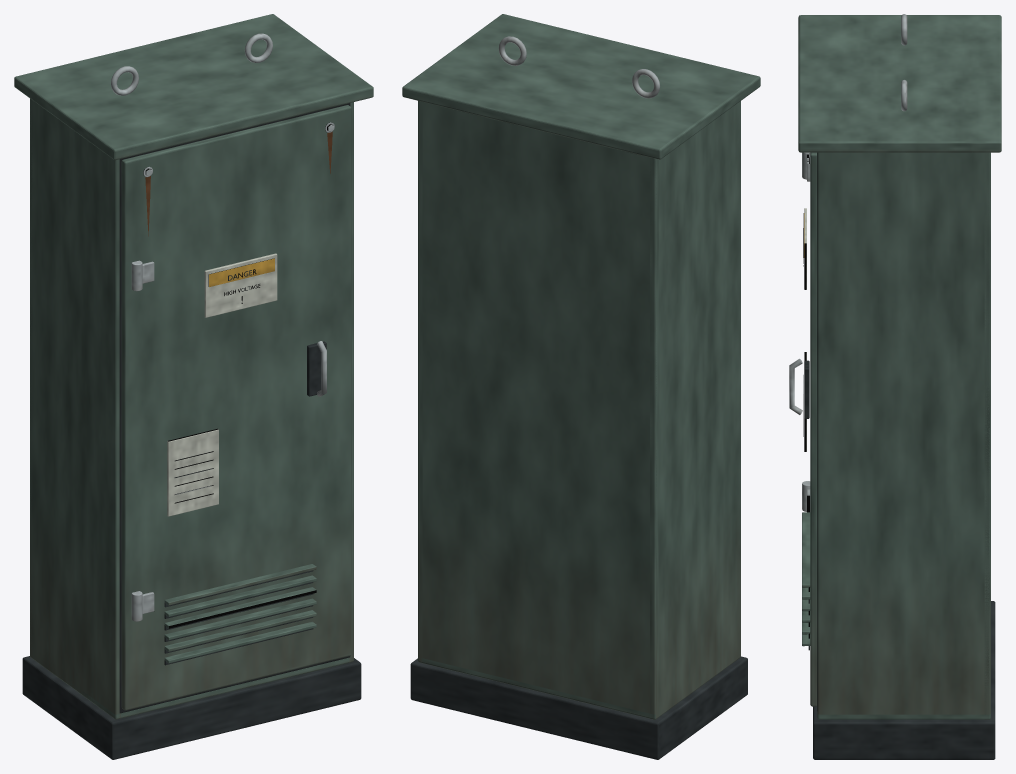
File: GR_DistributionCabinet_01.glb
3 views of the same model, side by side, from view 1: azimuth 30°, elevation 25°; view 2: azimuth 150°, elevation 25°; view 3: azimuth 270°, elevation 25° (orthographic).
Visible parts, largest first — view 1: Static; view 2: Static; view 3: Static.
Part boxes in pixels (bbox=[...]): Static: bbox=[14, 14, 373, 759]; Static: bbox=[402, 14, 760, 759]; Static: bbox=[789, 14, 1001, 759].
Bounding box in the file's own units: 0.87 × 2.07 × 0.6115.
1 material, 1 textured.
